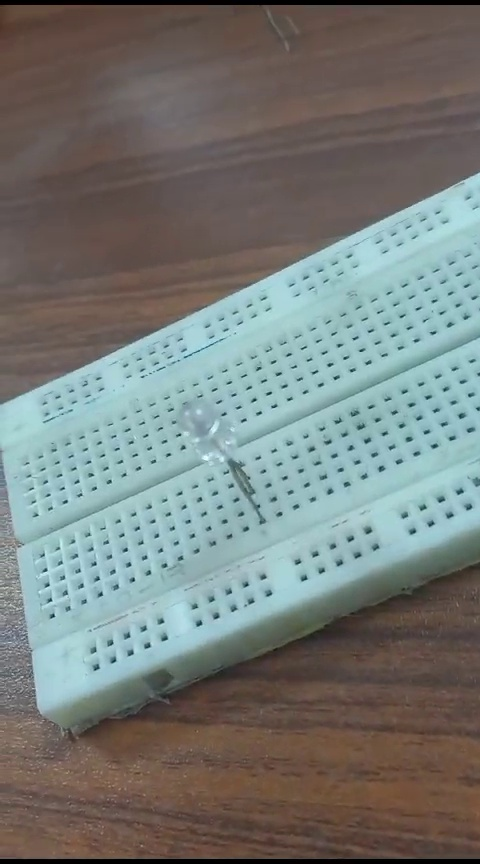LED: (155, 393, 268, 541)
